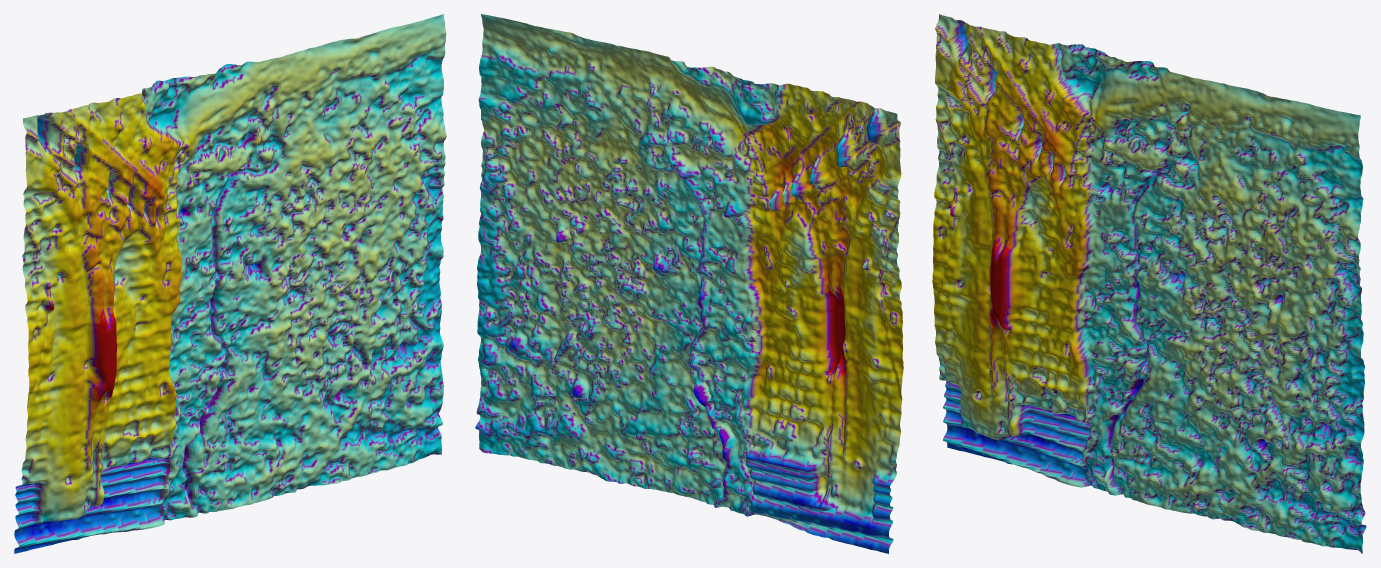
The picture shows the model from 3 angles, left to right: view 1: azimuth 30°, elevation 25°; view 2: azimuth 150°, elevation 25°; view 3: azimuth 330°, elevation 25°; orthographic projection.
Visible parts, largest first — view 1: world; view 2: world; view 3: world.
Part boxes in pixels (x1=…): world: x1=14, y1=14, x2=446, y2=553; world: x1=475, y1=14, x2=903, y2=553; world: x1=932, y1=14, x2=1366, y2=553.
Bounding box in the file's own units: 299 × 299 × 30.
